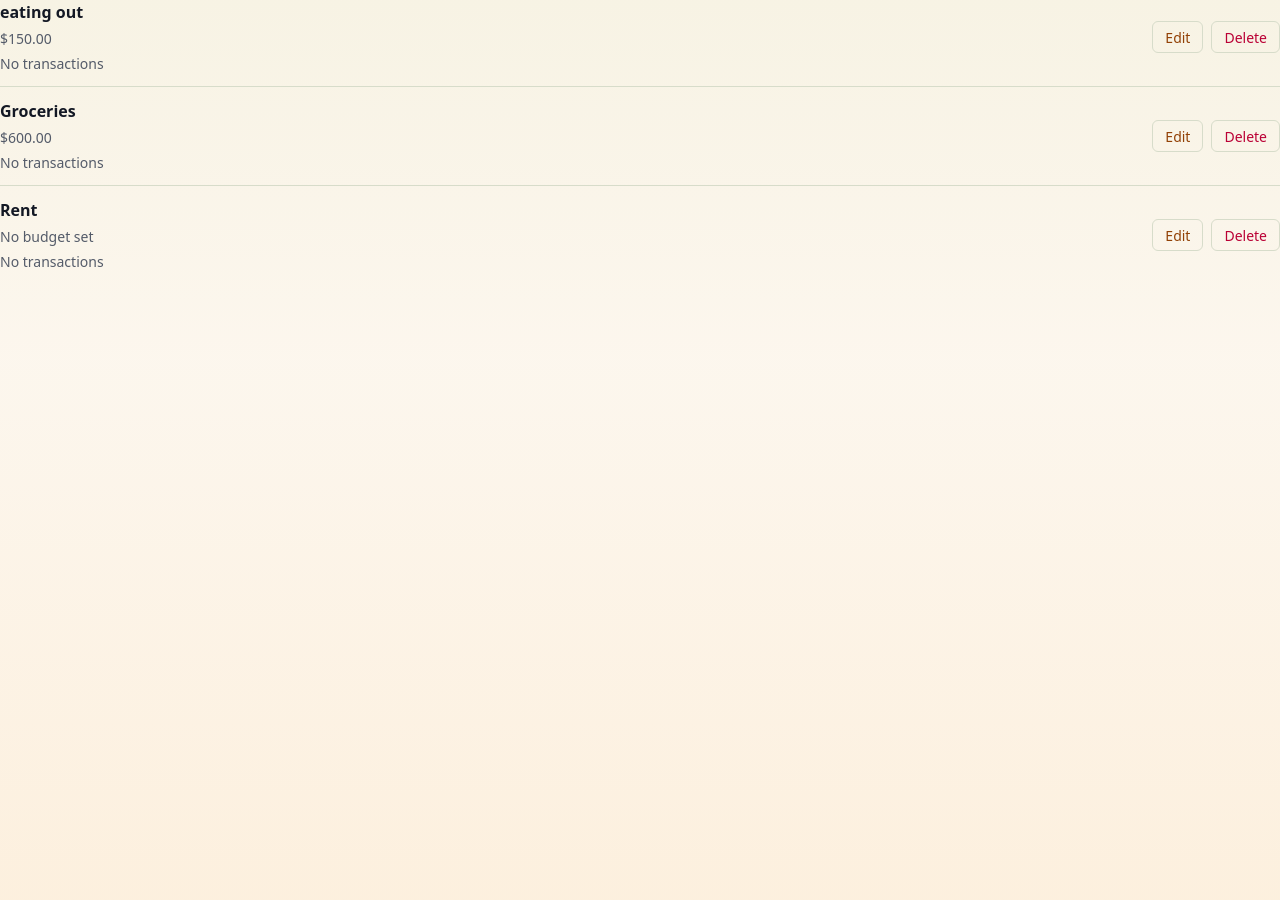
Test: CategoryList › opens a dialog filled in with the category, with focus on the name
Click the button with aria-label "Edit Groceries, $600.00": [1178, 136] box 1152,120 -> 1204,152
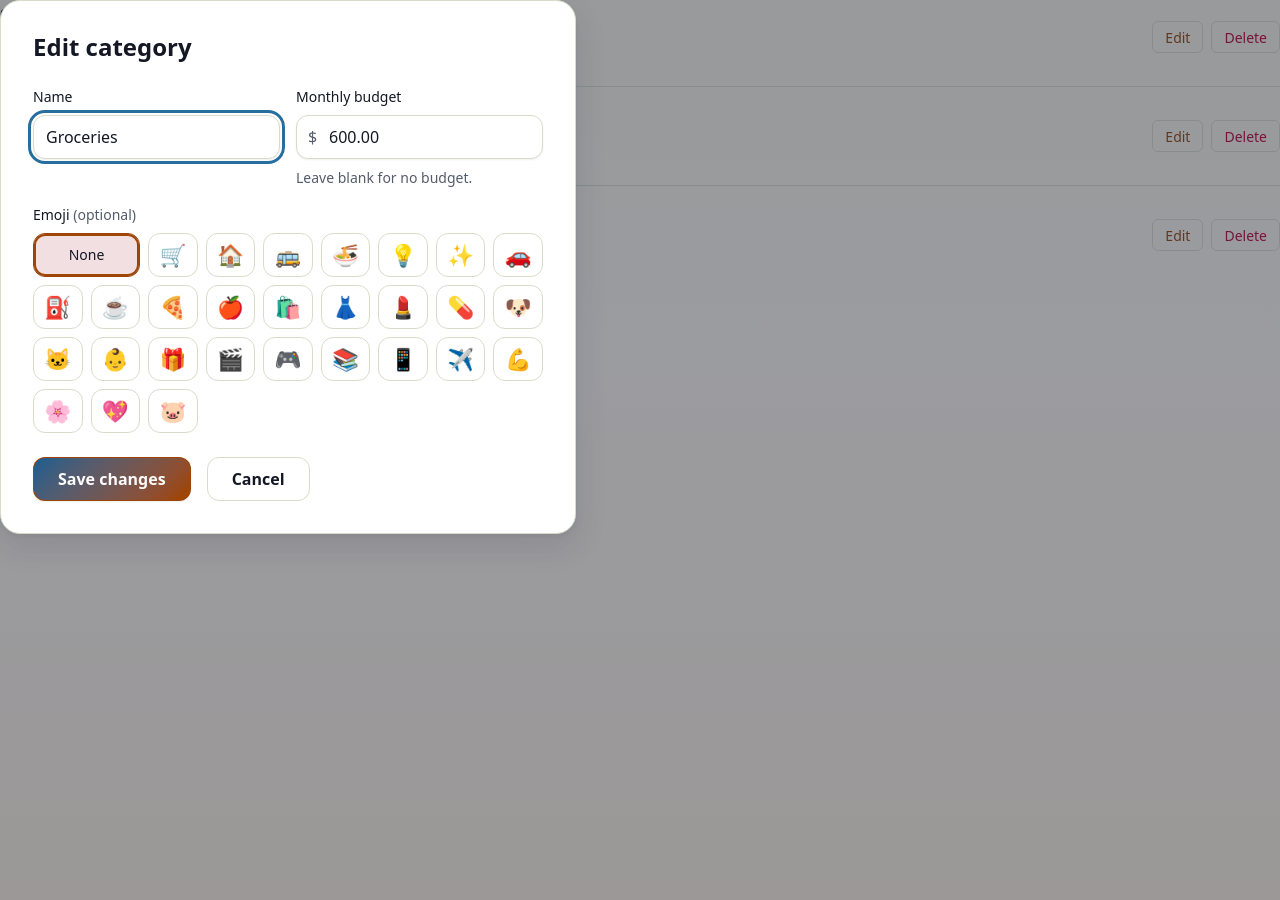
expect the field labelled "Name" holds "Groceries": met, box 33,115 -> 280,159
expect the field labelled "Monthly budget" holds "600.00": met, box 296,115 -> 543,159
